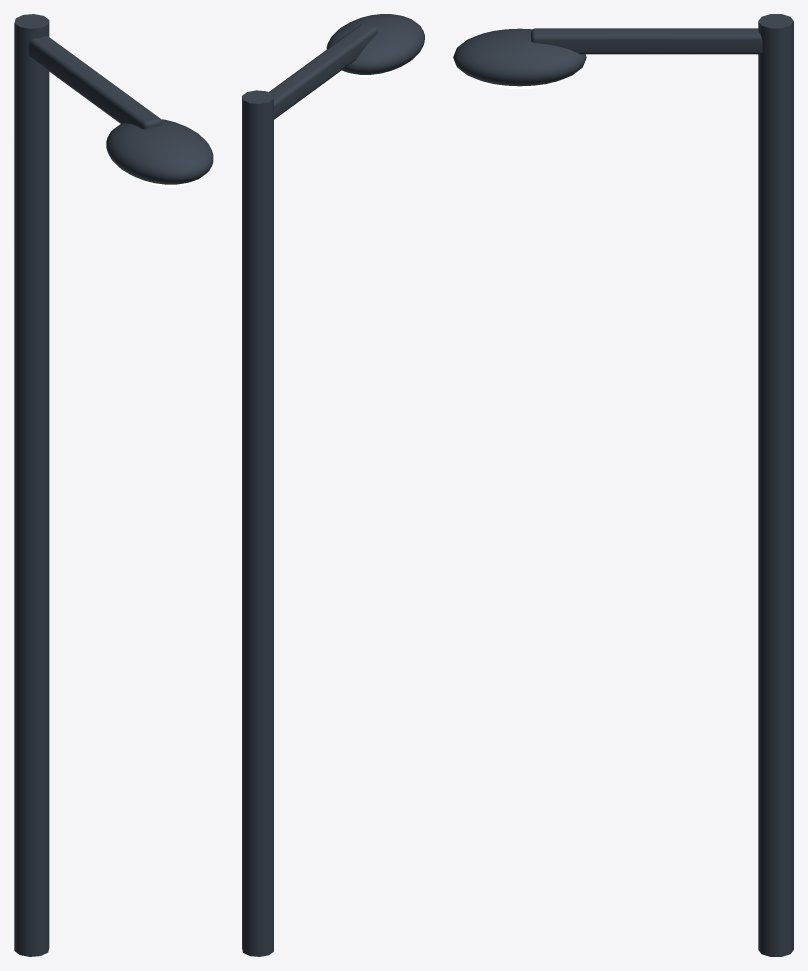
The model's file is street_lamp.glb.
3 renders of one model, left to right at view 1: azimuth 30°, elevation 25°; view 2: azimuth 150°, elevation 25°; view 3: azimuth 270°, elevation 25°, orthographic. The views are drawn at different scales.
Parts seen in each view (by area): view 1: Pole, Head, Arm; view 2: Pole, Head, Arm; view 3: Pole, Arm, Head.
Boxes of the visible parts, x1,y1,x2,y2 form: Pole: (14, 14, 49, 956); Head: (106, 119, 213, 184); Arm: (29, 36, 162, 129); Pole: (242, 90, 273, 956); Head: (326, 14, 424, 74); Arm: (269, 24, 377, 119); Pole: (758, 14, 793, 956); Arm: (531, 28, 762, 54); Head: (453, 28, 586, 86).
Size of the model in its own units: 0.44 by 4.6 by 1.53.
